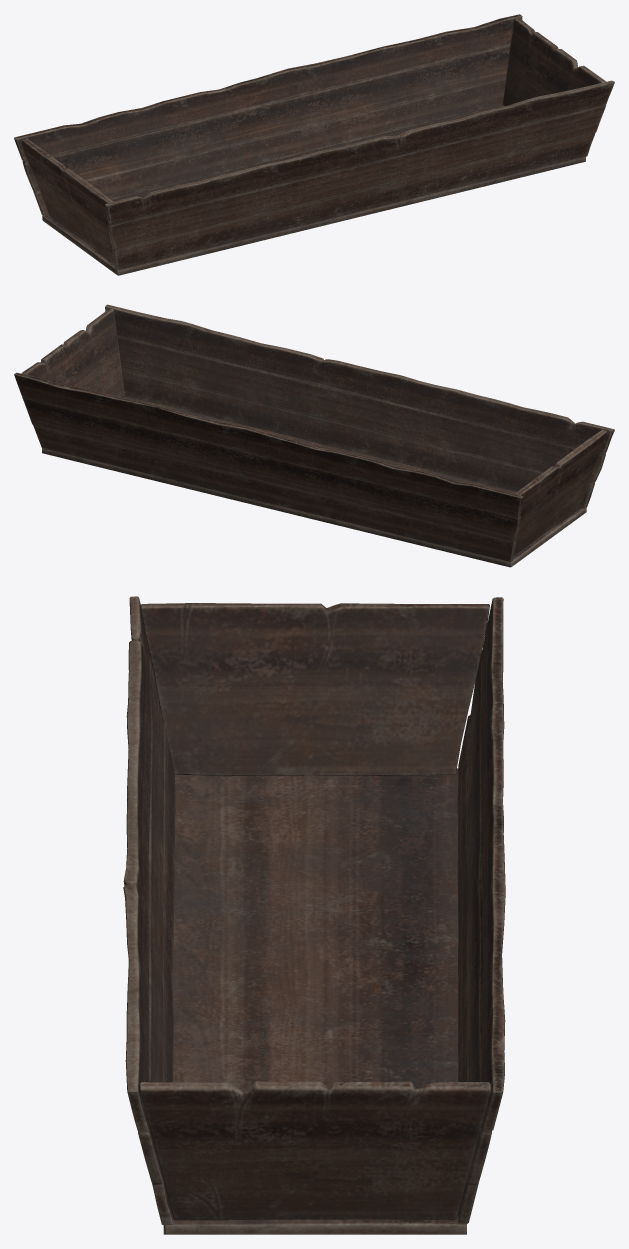
Rendered from feeding_trough.glb.
3 renders of one model, top to bottom at view 1: azimuth 30°, elevation 25°; view 2: azimuth 150°, elevation 25°; view 3: azimuth 270°, elevation 25°, orthographic. The views are drawn at different scales.
Parts seen in each view (by area): view 1: Trough_0; view 2: Trough_0; view 3: Trough_0.
Part boxes in pixels (x1=…): Trough_0: x1=14, y1=14, x2=614, y2=275; Trough_0: x1=14, y1=304, x2=614, y2=567; Trough_0: x1=123, y1=596, x2=505, y2=1234.
Bounding box in the file's own units: 2.39 × 0.3755 × 0.7808.
Materials: 1 (1 with a texture image).
